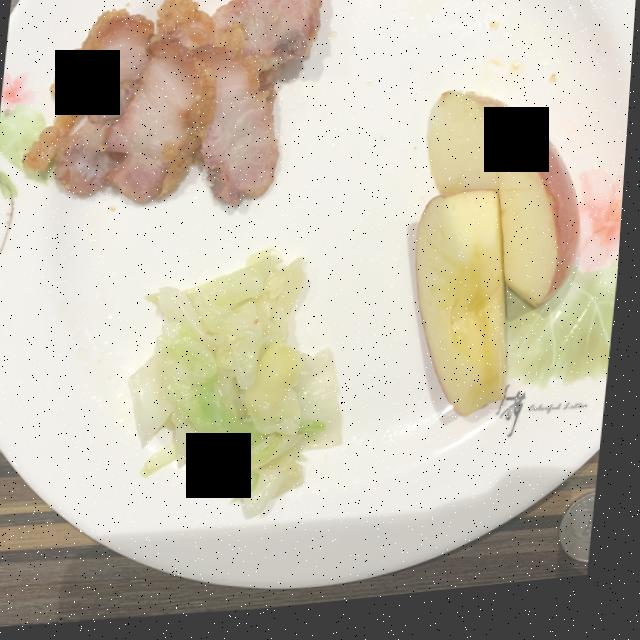apple -sliced-: (419, 101, 582, 425)
cabbage: (135, 255, 347, 521)
coin: (568, 505, 603, 574)
red grilled pork: (25, 0, 323, 209)
